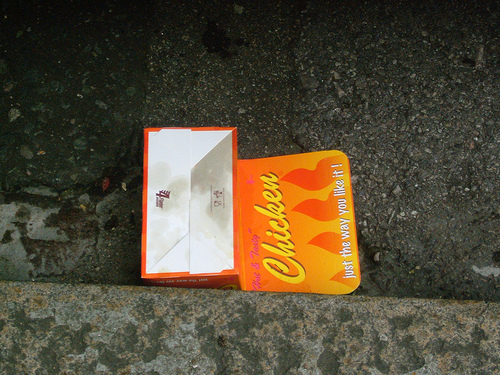litter: (140, 125, 362, 294)
